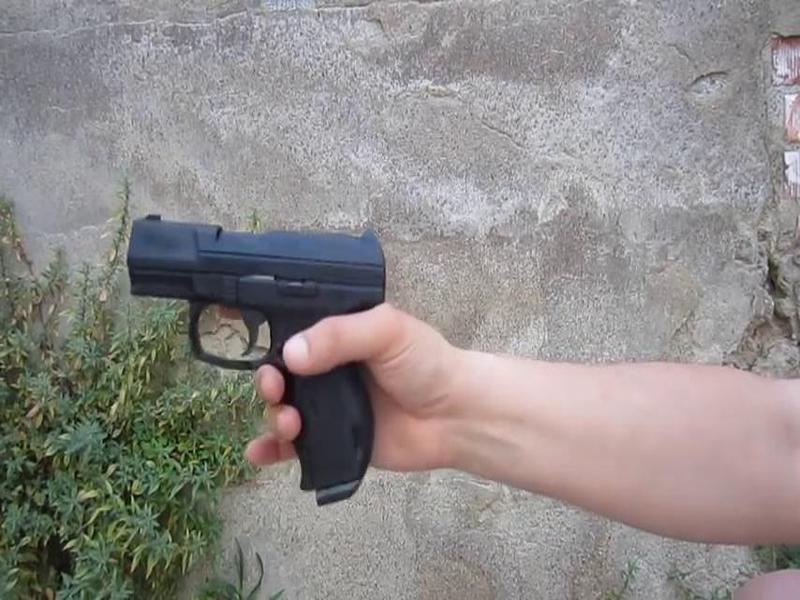Pistola: (107, 204, 411, 514)
